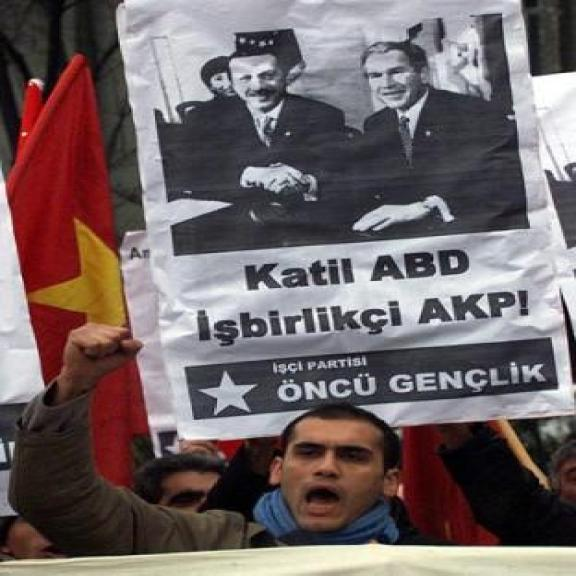face: (262, 409, 406, 535), (358, 51, 436, 109), (228, 61, 287, 115)
